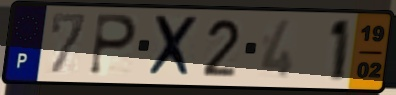1: (327, 18, 354, 83)
2: (203, 17, 244, 79)
4: (257, 17, 298, 82)
7: (48, 11, 88, 77)
P: (86, 12, 140, 78)
X: (145, 14, 201, 80)
